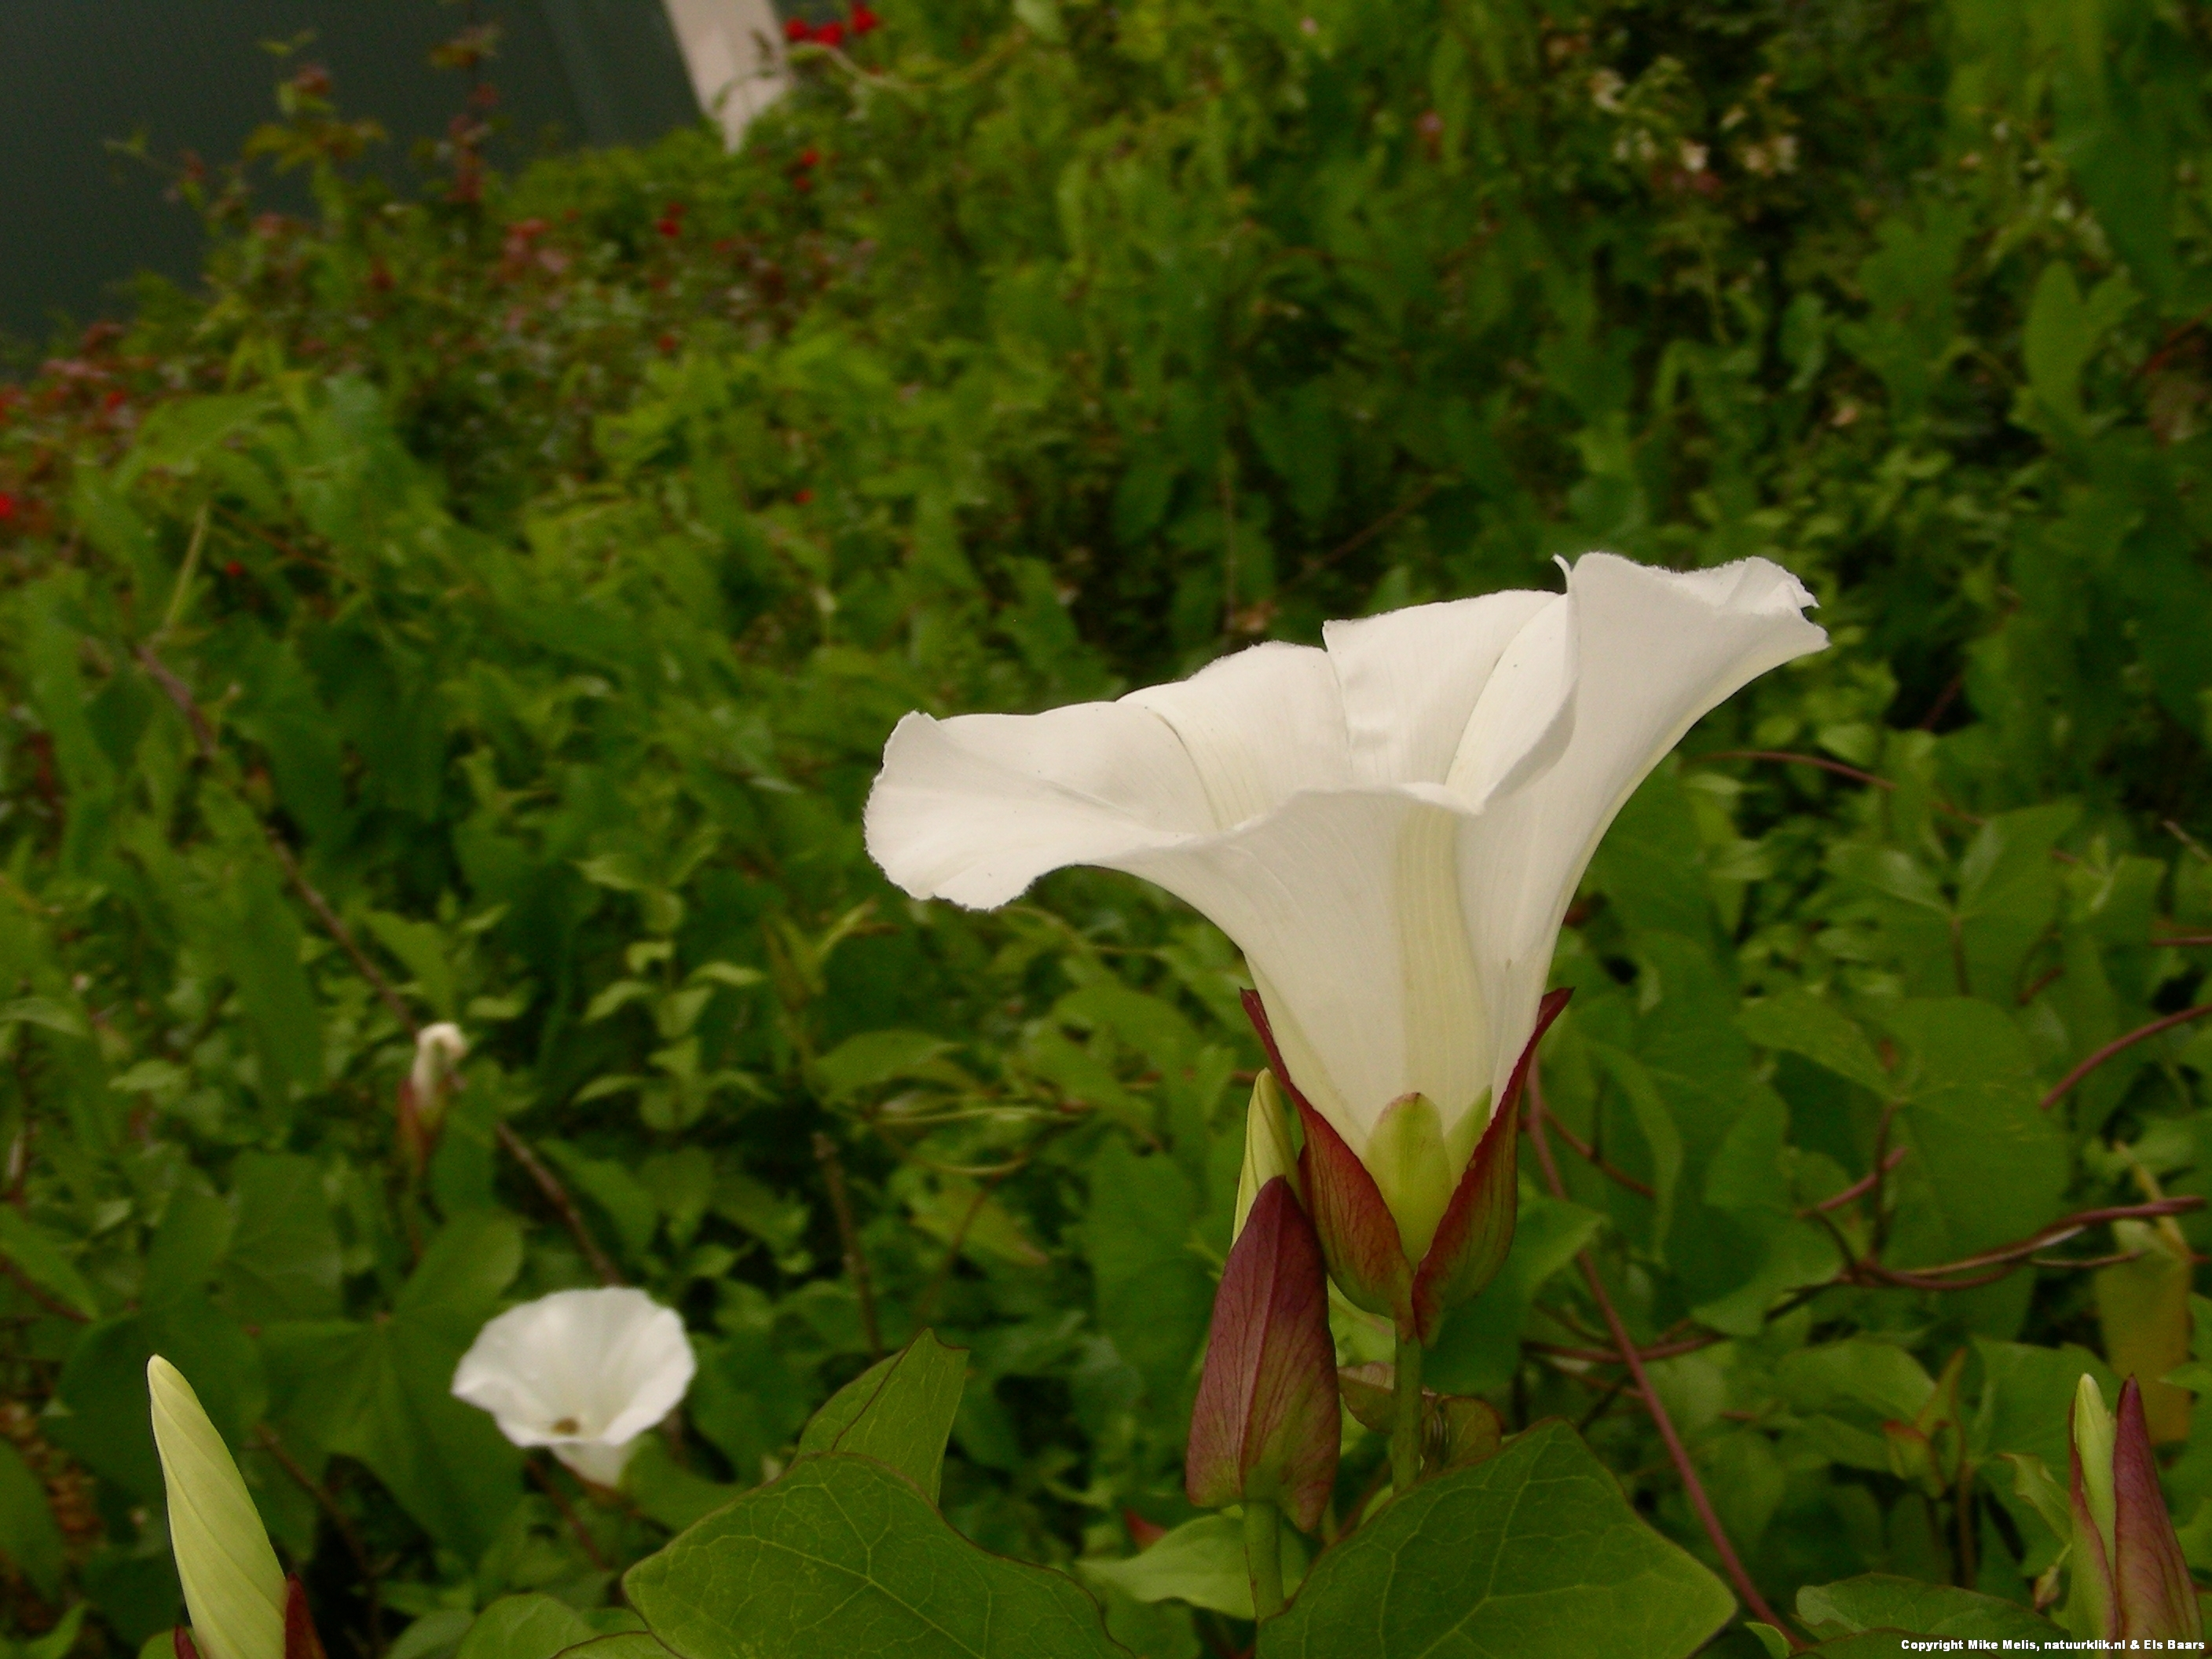haagwinde: (834, 471, 2106, 1385)
